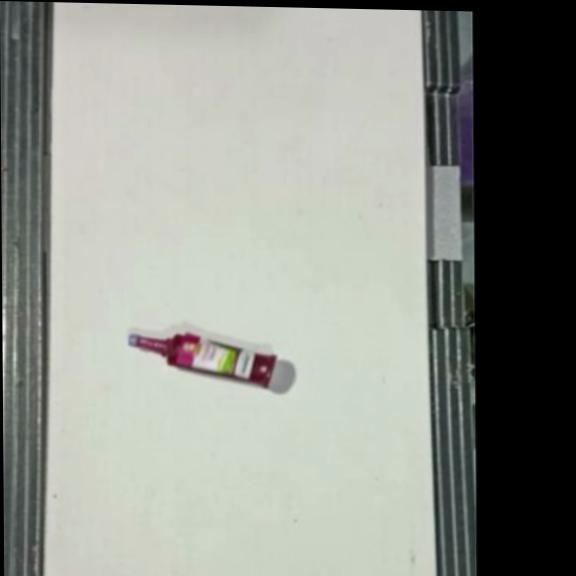Plastik: (126, 327, 279, 391)
